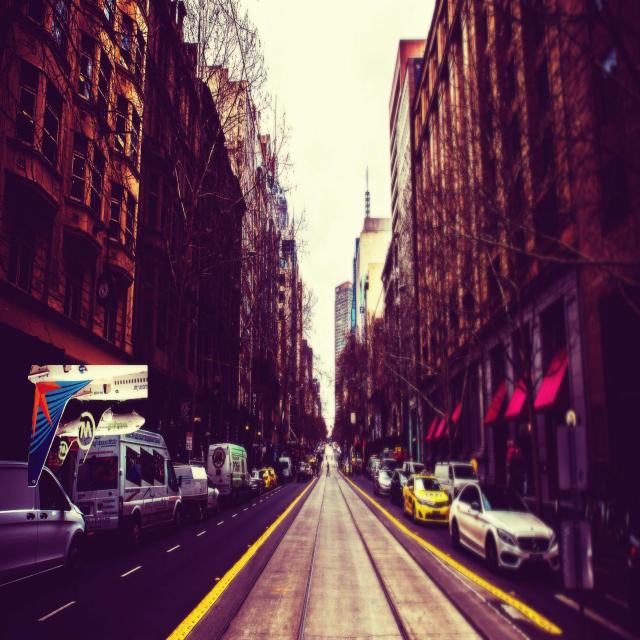airplane: (27, 362, 148, 488)
